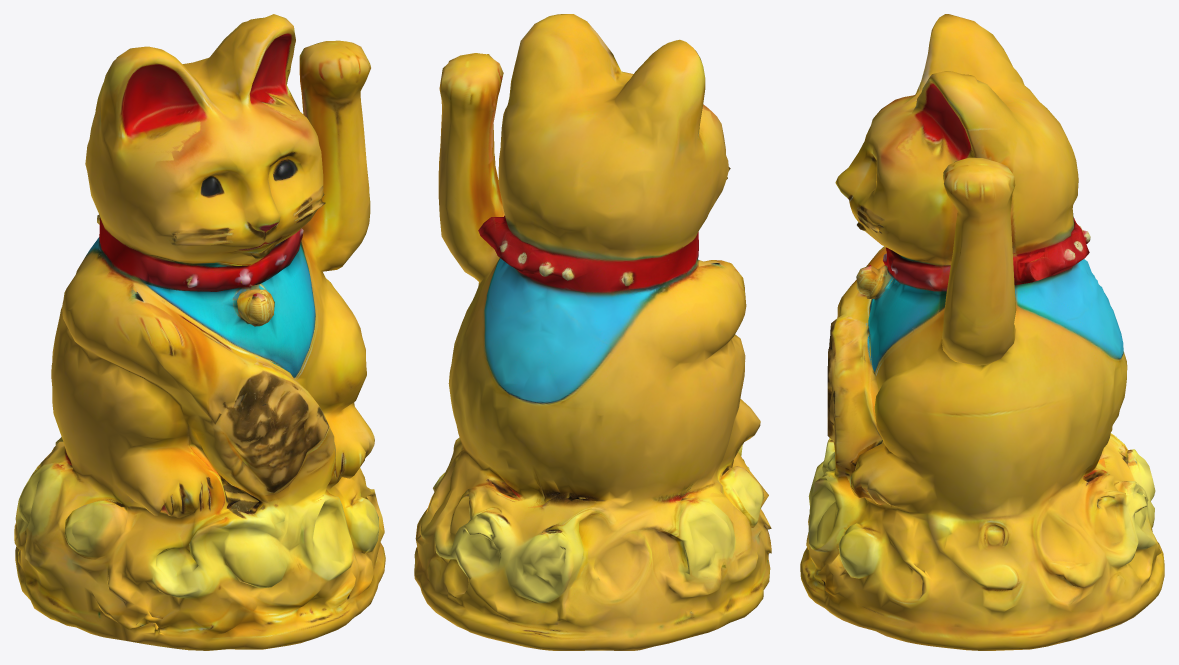
Rendered from cat.glb.
3 renders of one model, left to right at view 1: azimuth 30°, elevation 25°; view 2: azimuth 150°, elevation 25°; view 3: azimuth 270°, elevation 25°, orthographic. The views are drawn at different scales.
Bounding box in the file's own units: 1.23 × 2 × 1.25.
1 material, 1 textured.
